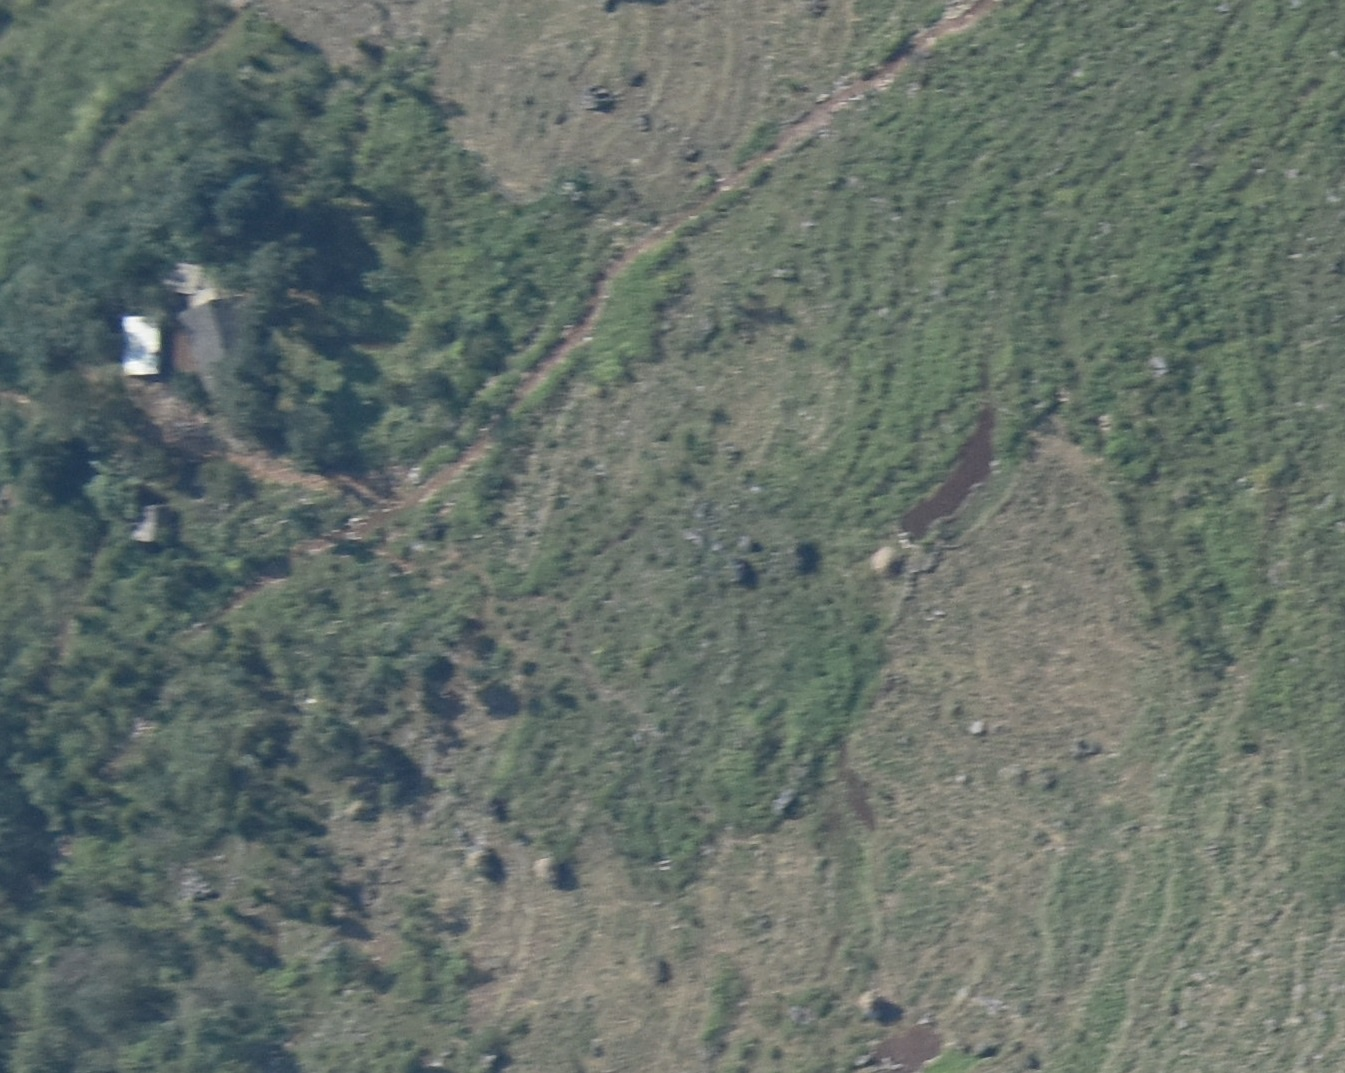building: (179, 292, 250, 371), (121, 316, 161, 377), (161, 259, 202, 295), (132, 506, 169, 543)
